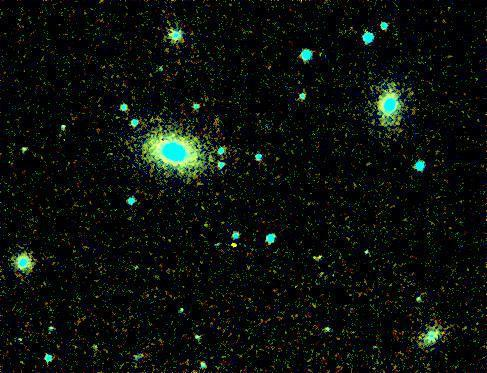star: (223, 234, 253, 264)
